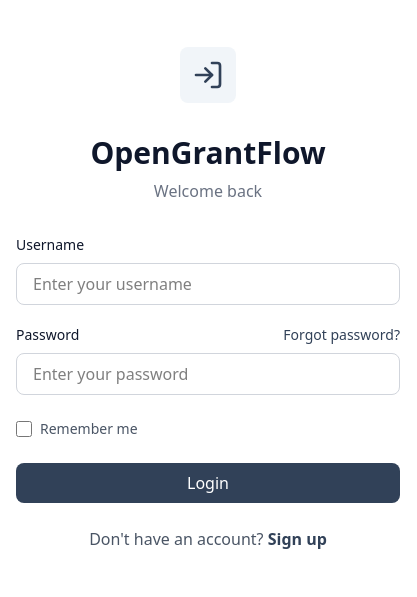
Test: Login error messages › shows the server's lockout message on a 429
Type "user@example.com" into the field with placeholder "Enter your username" at (208, 284), box [16, 263, 400, 305]
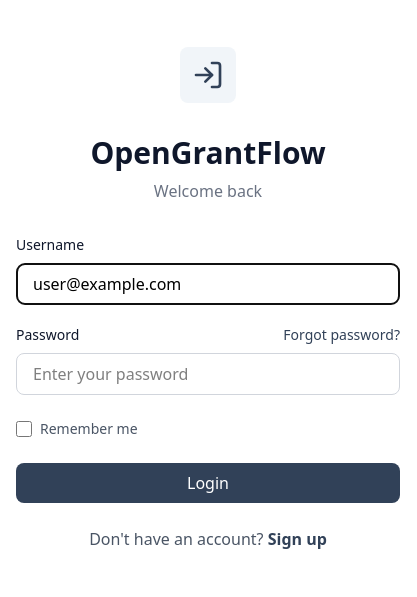
Type "whatever" into the password field with placeholder "Enter your password" at (208, 374), box [16, 353, 400, 395]
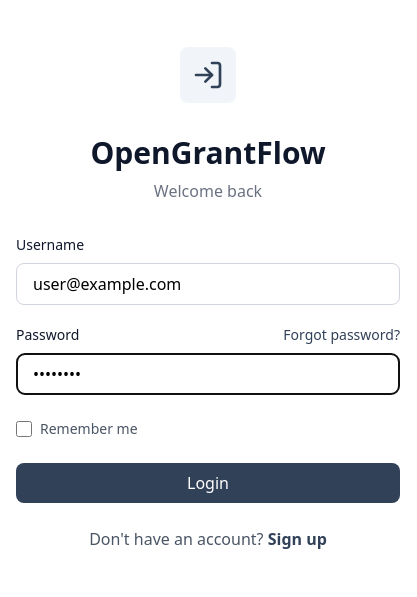
Click the button "Login" at (208, 483), box [16, 463, 400, 503]
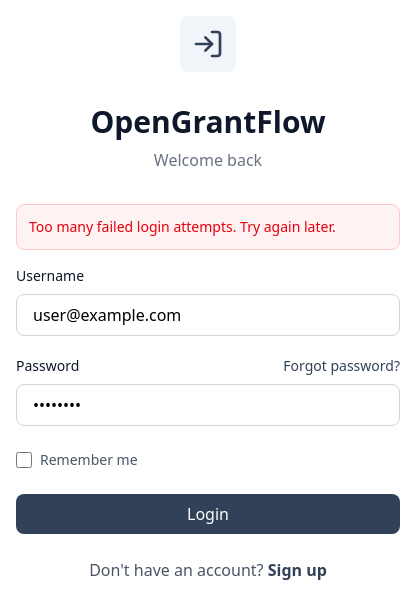
Now the text "Too many failed login attempts. Try again later." is shown, box [29, 217, 387, 237]
